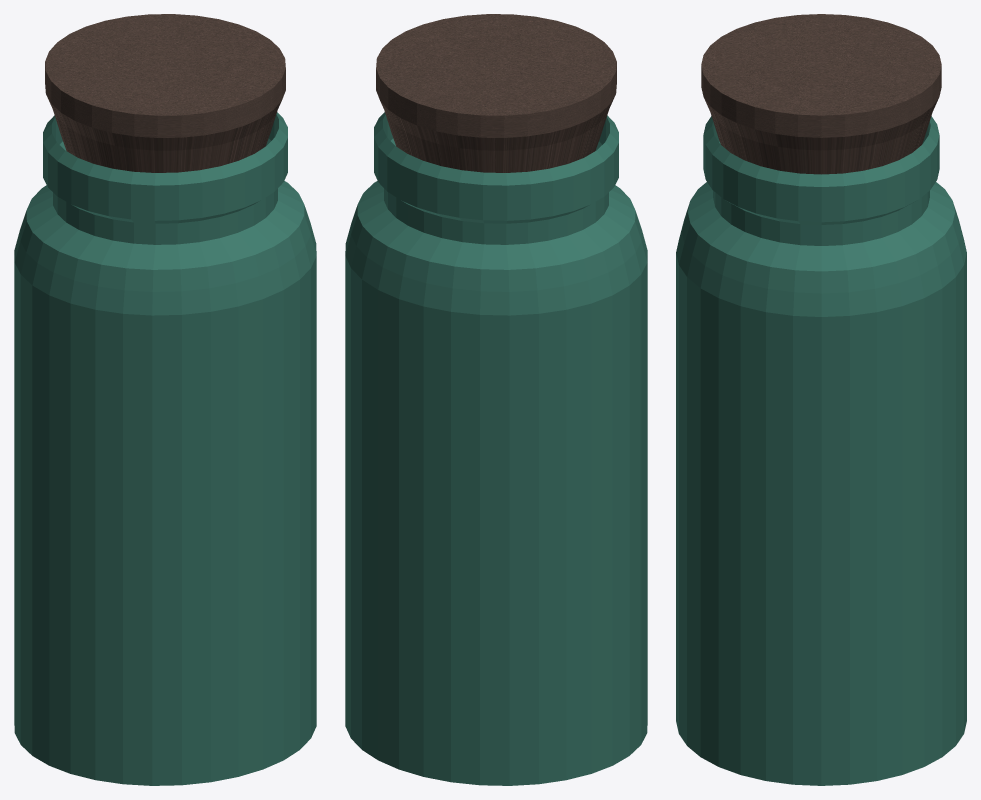
The model's file is PocionMultijugos2.fbx.
The picture shows the model from 3 angles, left to right: view 1: azimuth 30°, elevation 25°; view 2: azimuth 150°, elevation 25°; view 3: azimuth 270°, elevation 25°; orthographic projection.
Parts seen in each view (by area): view 1: Cilindro, Cilindro.001; view 2: Cilindro, Cilindro.001; view 3: Cilindro, Cilindro.001.
Boxes of the visible parts, x1=… form: Cilindro: x1=14, y1=112, x2=316, y2=785; Cilindro.001: x1=45, y1=14, x2=285, y2=172; Cilindro: x1=345, y1=112, x2=647, y2=785; Cilindro.001: x1=376, y1=14, x2=616, y2=172; Cilindro: x1=676, y1=116, x2=966, y2=785; Cilindro.001: x1=701, y1=14, x2=941, y2=174.
Bounding box in the file's own units: 28.23 × 66.8 × 26.82.
Materials: 2 (1 with a texture image).
